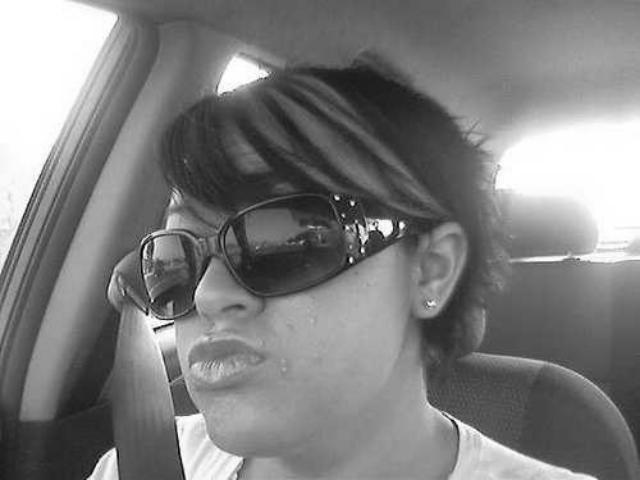Seatbelt: (105, 256, 191, 480)
